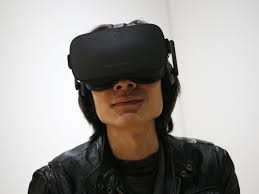oculus: (69, 22, 173, 90)
